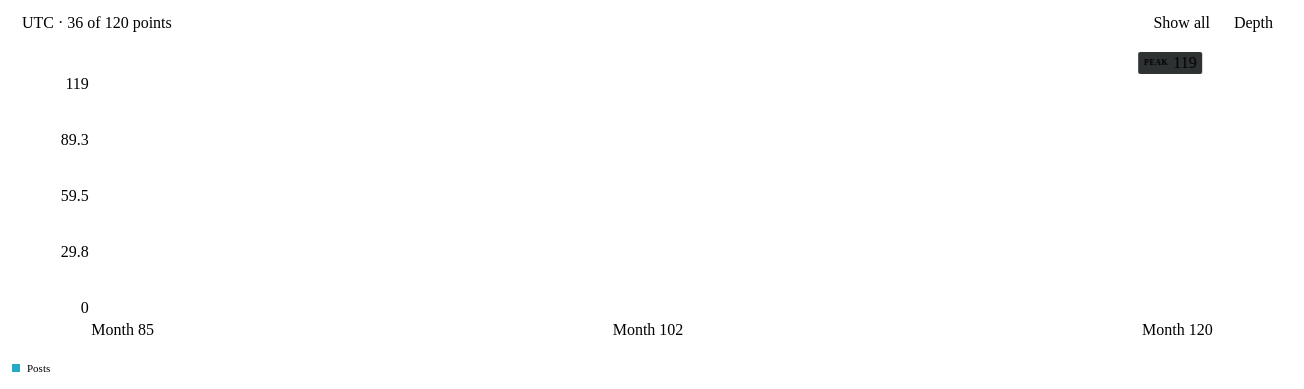
Test: interactive chart controls and accessible data › opens a long bar series on its latest buckets and shows all on request
Expected: the element showing "UTC · 36 of 120 points Show all Depth" is shown, left=12, top=0, right=1292, bottom=46
Click the button "Show all" at (1182, 23), box left=1144, top=8, right=1219, bottom=38
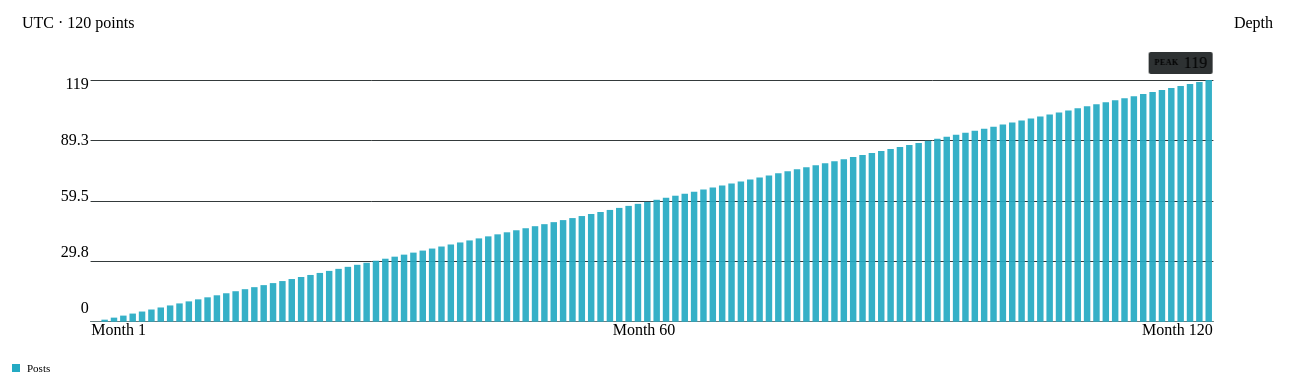
Expected: the element showing "UTC · 120 points Depth" is shown, left=12, top=0, right=1292, bottom=46
Expected: the button "Show all" is gone
